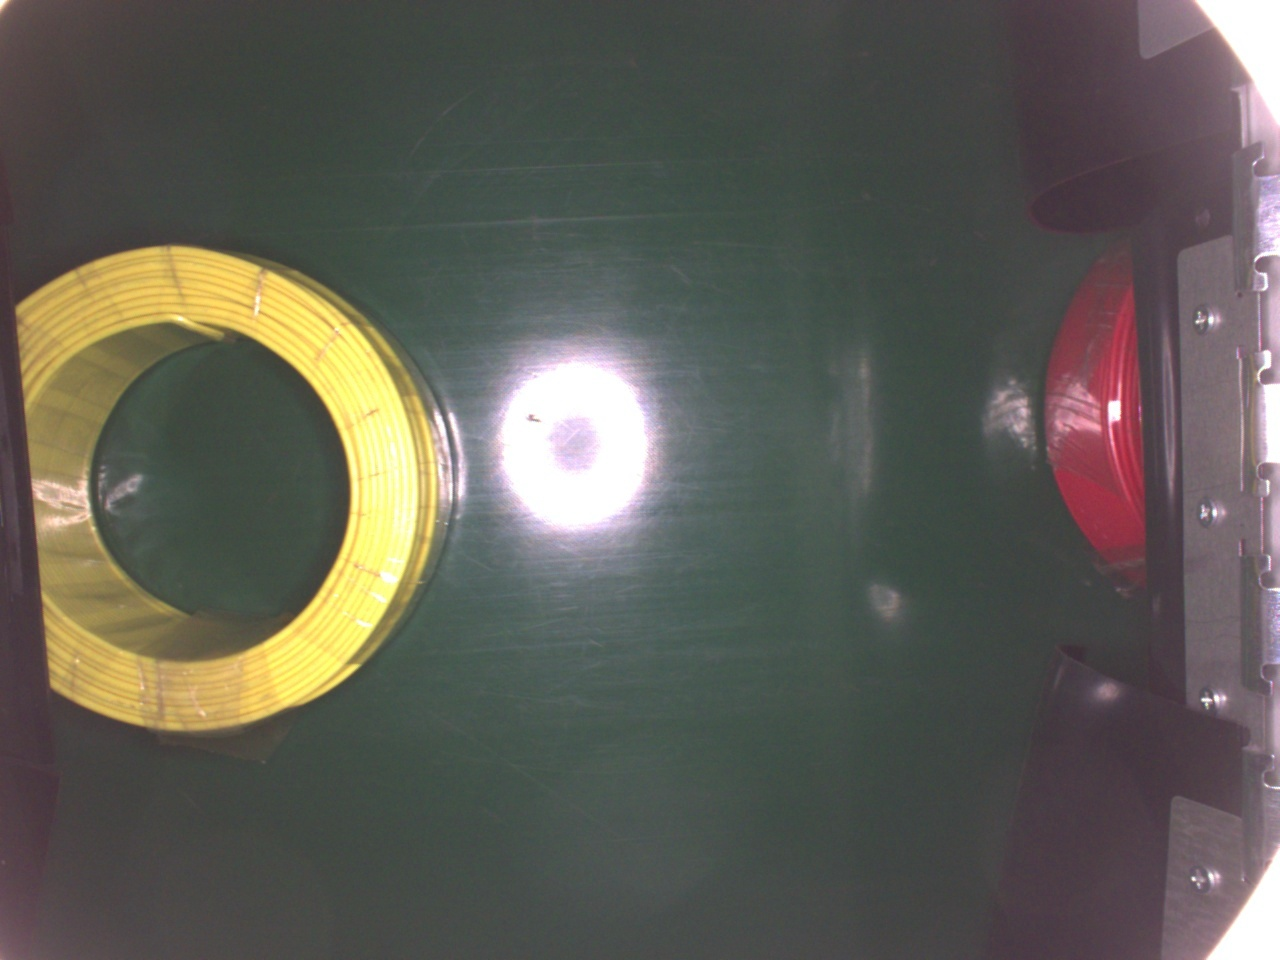yellow: (12, 239, 460, 723)
